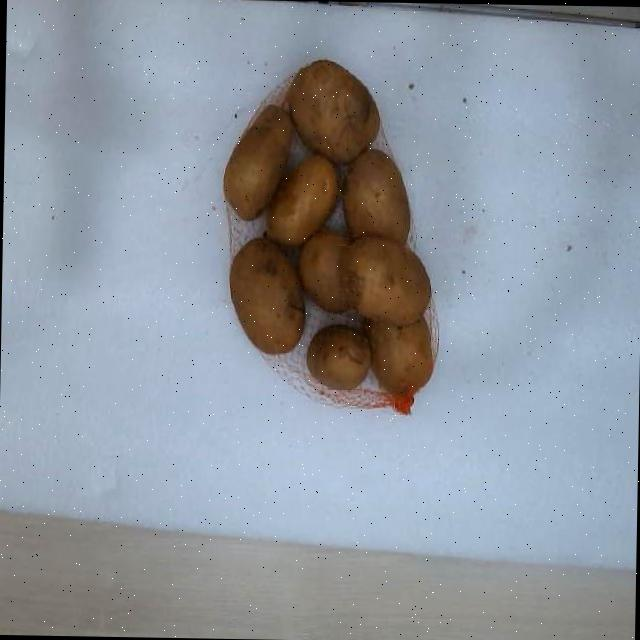potato: (288, 59, 376, 164), (230, 237, 304, 352), (223, 105, 291, 219), (345, 237, 427, 320), (266, 154, 336, 245), (342, 150, 409, 243), (367, 318, 432, 393), (305, 324, 369, 389), (298, 229, 349, 310)
